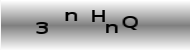3: (35, 21, 50, 35)
H: (91, 9, 105, 22)
Q: (122, 15, 139, 30)
n: (105, 22, 118, 34), (64, 11, 79, 21)
